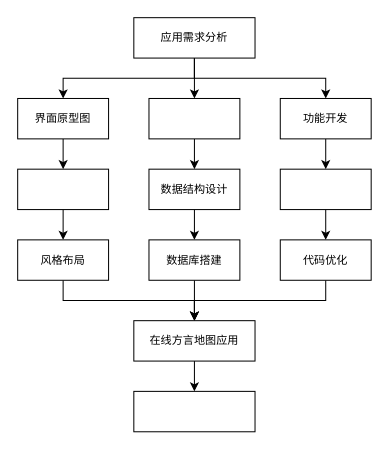
Some shapes in this 389 by 449 pixel diagram are drawn without their labels. Here are the shapes that lost their labels. From the top down, the centre of each, then its label:
[194,118]: 数据整理
[63,189]: UI设计
[325,189]: 前后端对接
[194,411]: 部署运行测试
